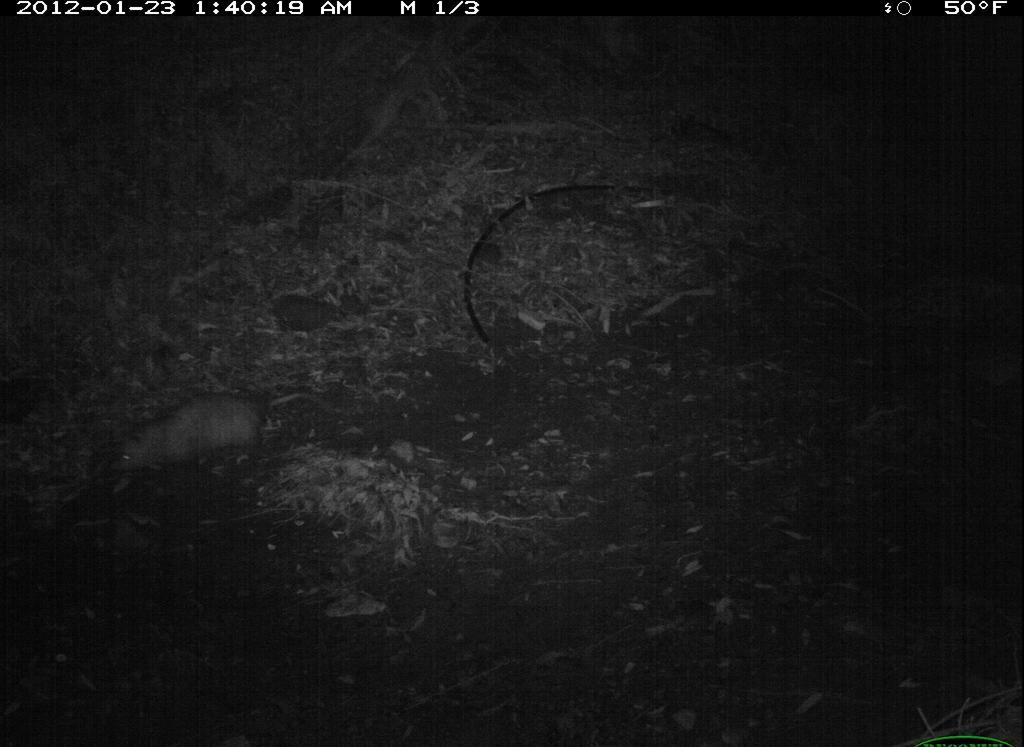opossum: (82, 381, 383, 506)
